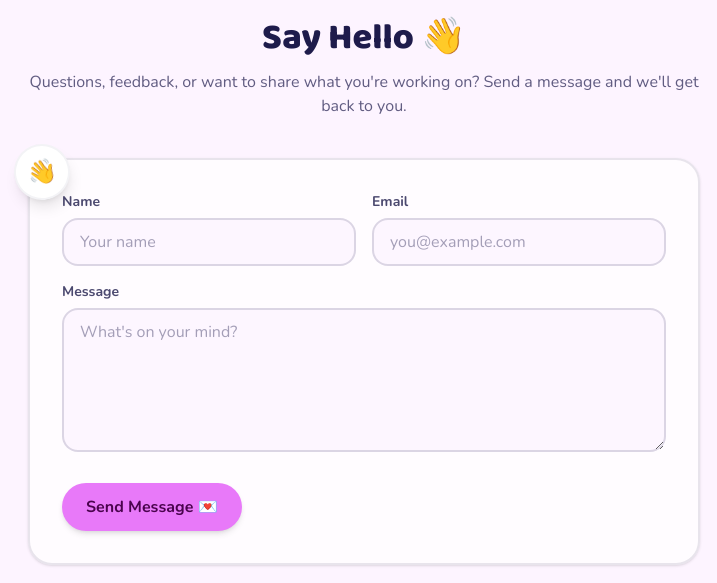
Test: ContactForm › shows the server-provided error message on failure, without clearing the form
Type "Ada Lovelace" into the field labelled "Name". click: [209, 242]
box: [62,218,356,266]
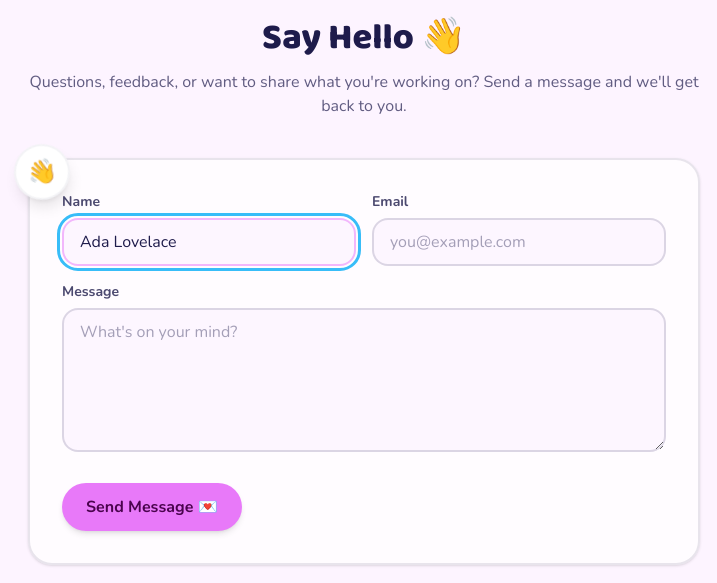
Type "ada@example.com" into the field labelled "Email". click: [519, 242]
box: [372,218,666,266]
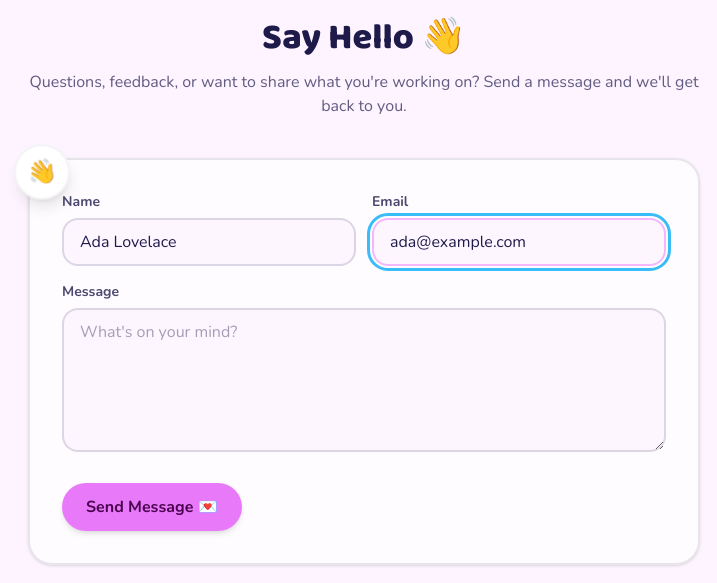
Type "Hello there" into the text box labelled "Message". click: [364, 380]
box: [62,308,666,452]
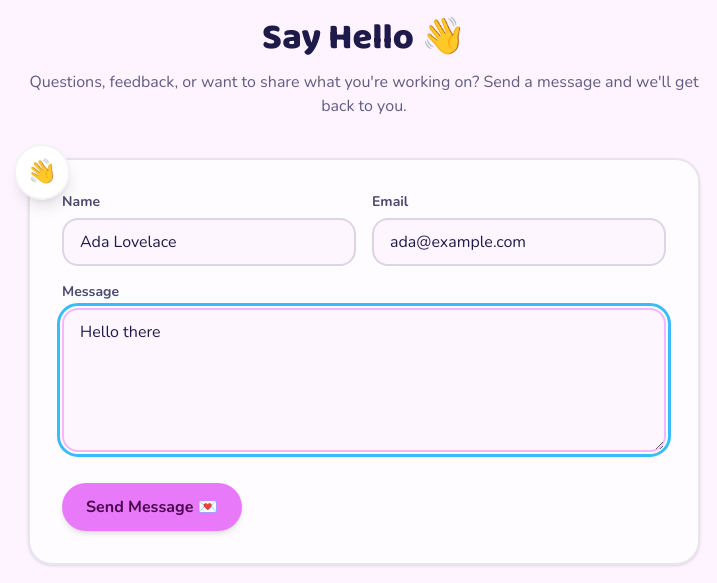
Click the button "Send Message 💌". click: [152, 507]
box: [62,483,242,531]
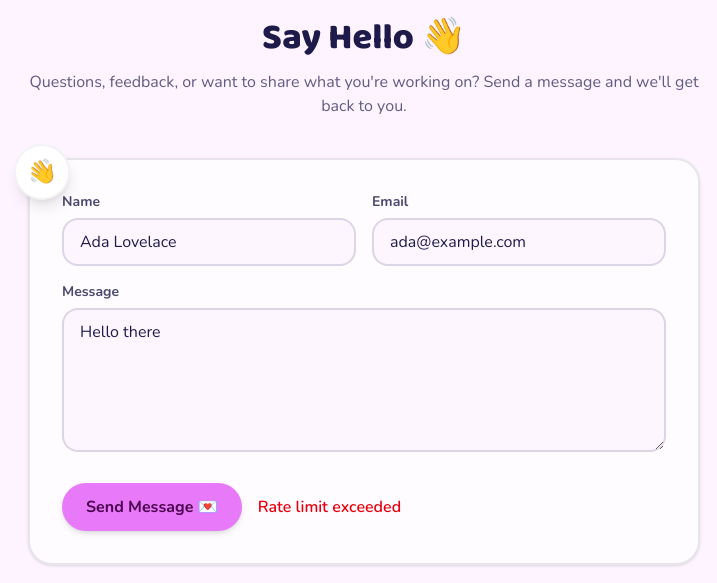
Expected: the message reads "Rate limit exceeded", [258,496,401,518]
